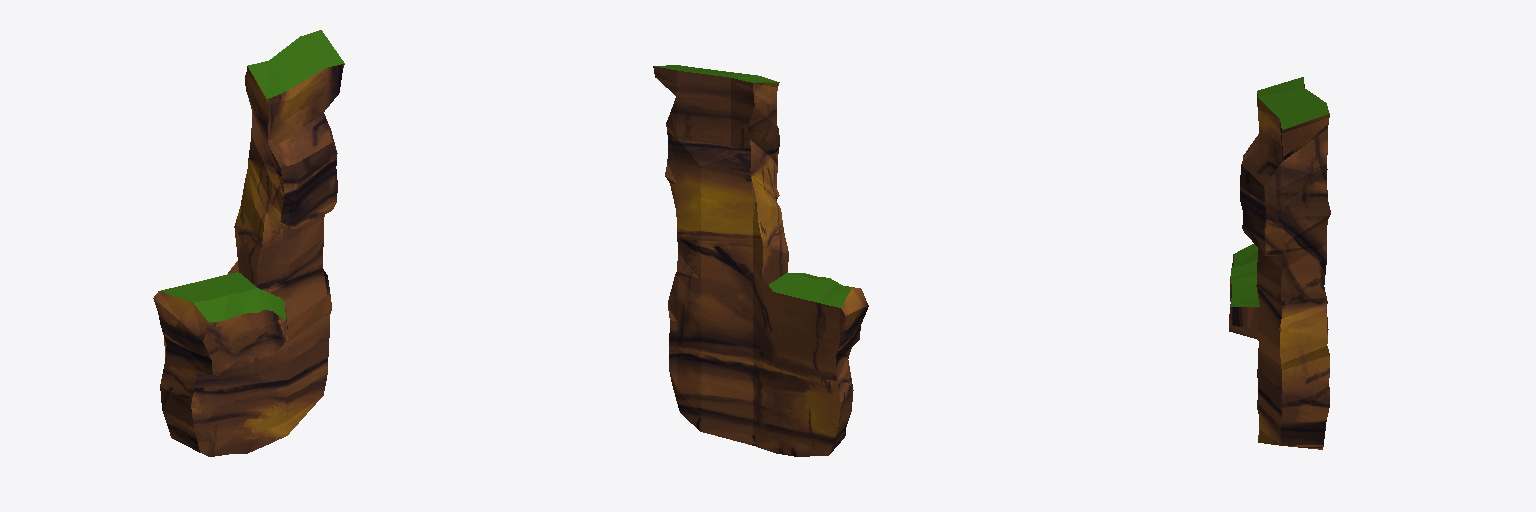
3 renders of one model, left to right at view 1: azimuth 30°, elevation 25°; view 2: azimuth 150°, elevation 25°; view 3: azimuth 270°, elevation 25°, orthographic.
Visible parts, largest first — view 1: Plane.041_Plane.045; view 2: Plane.041_Plane.045; view 3: Plane.041_Plane.045.
Boxes of the visible parts, <box> form: Plane.041_Plane.045: <box>153,30,344,456</box>; Plane.041_Plane.045: <box>653,65,868,456</box>; Plane.041_Plane.045: <box>1229,77,1330,449</box>.
Bounding box in the file's own units: 126 × 249 × 62.17.
1 materials, 1 textured.